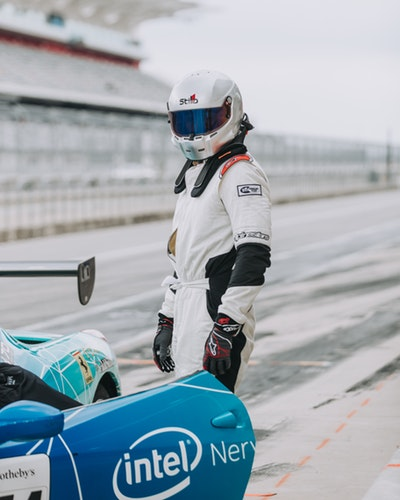helmet: (166, 67, 255, 160)
